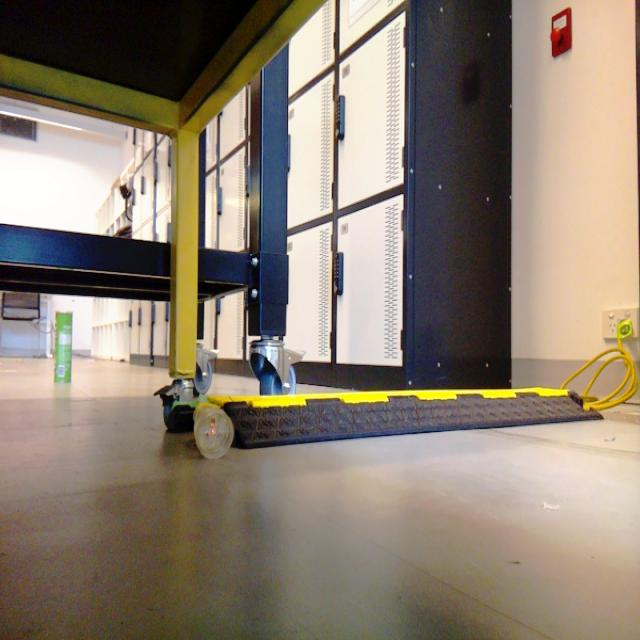greenpringles: (36, 296, 88, 398)
